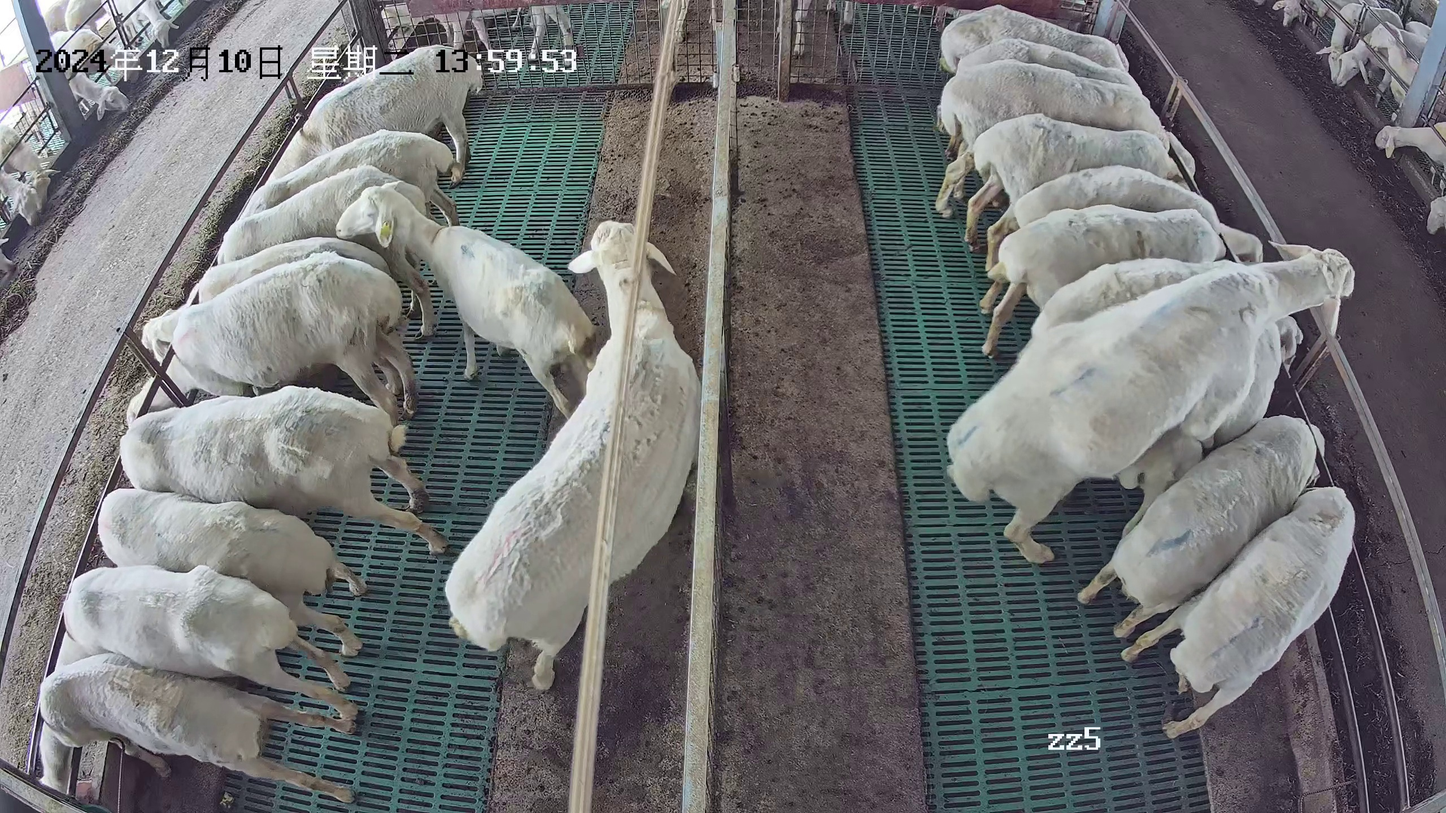Smounting: (946, 240, 1357, 565)
mounted: (1118, 313, 1306, 542)
